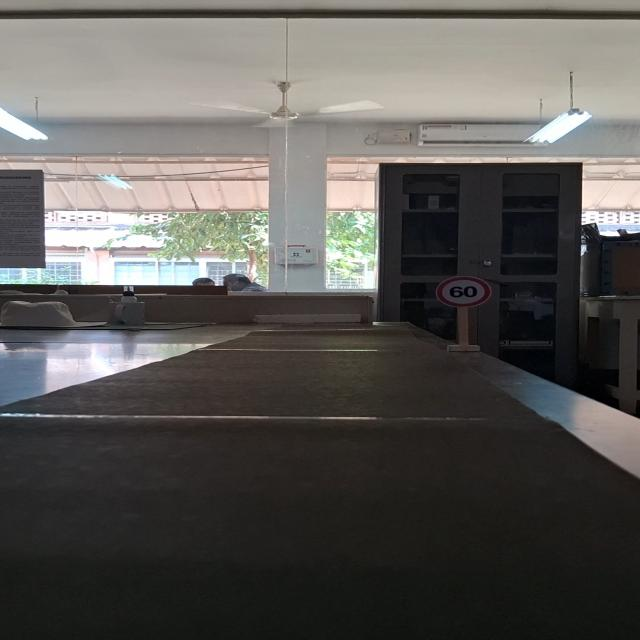Speed60: (434, 275, 493, 309)
